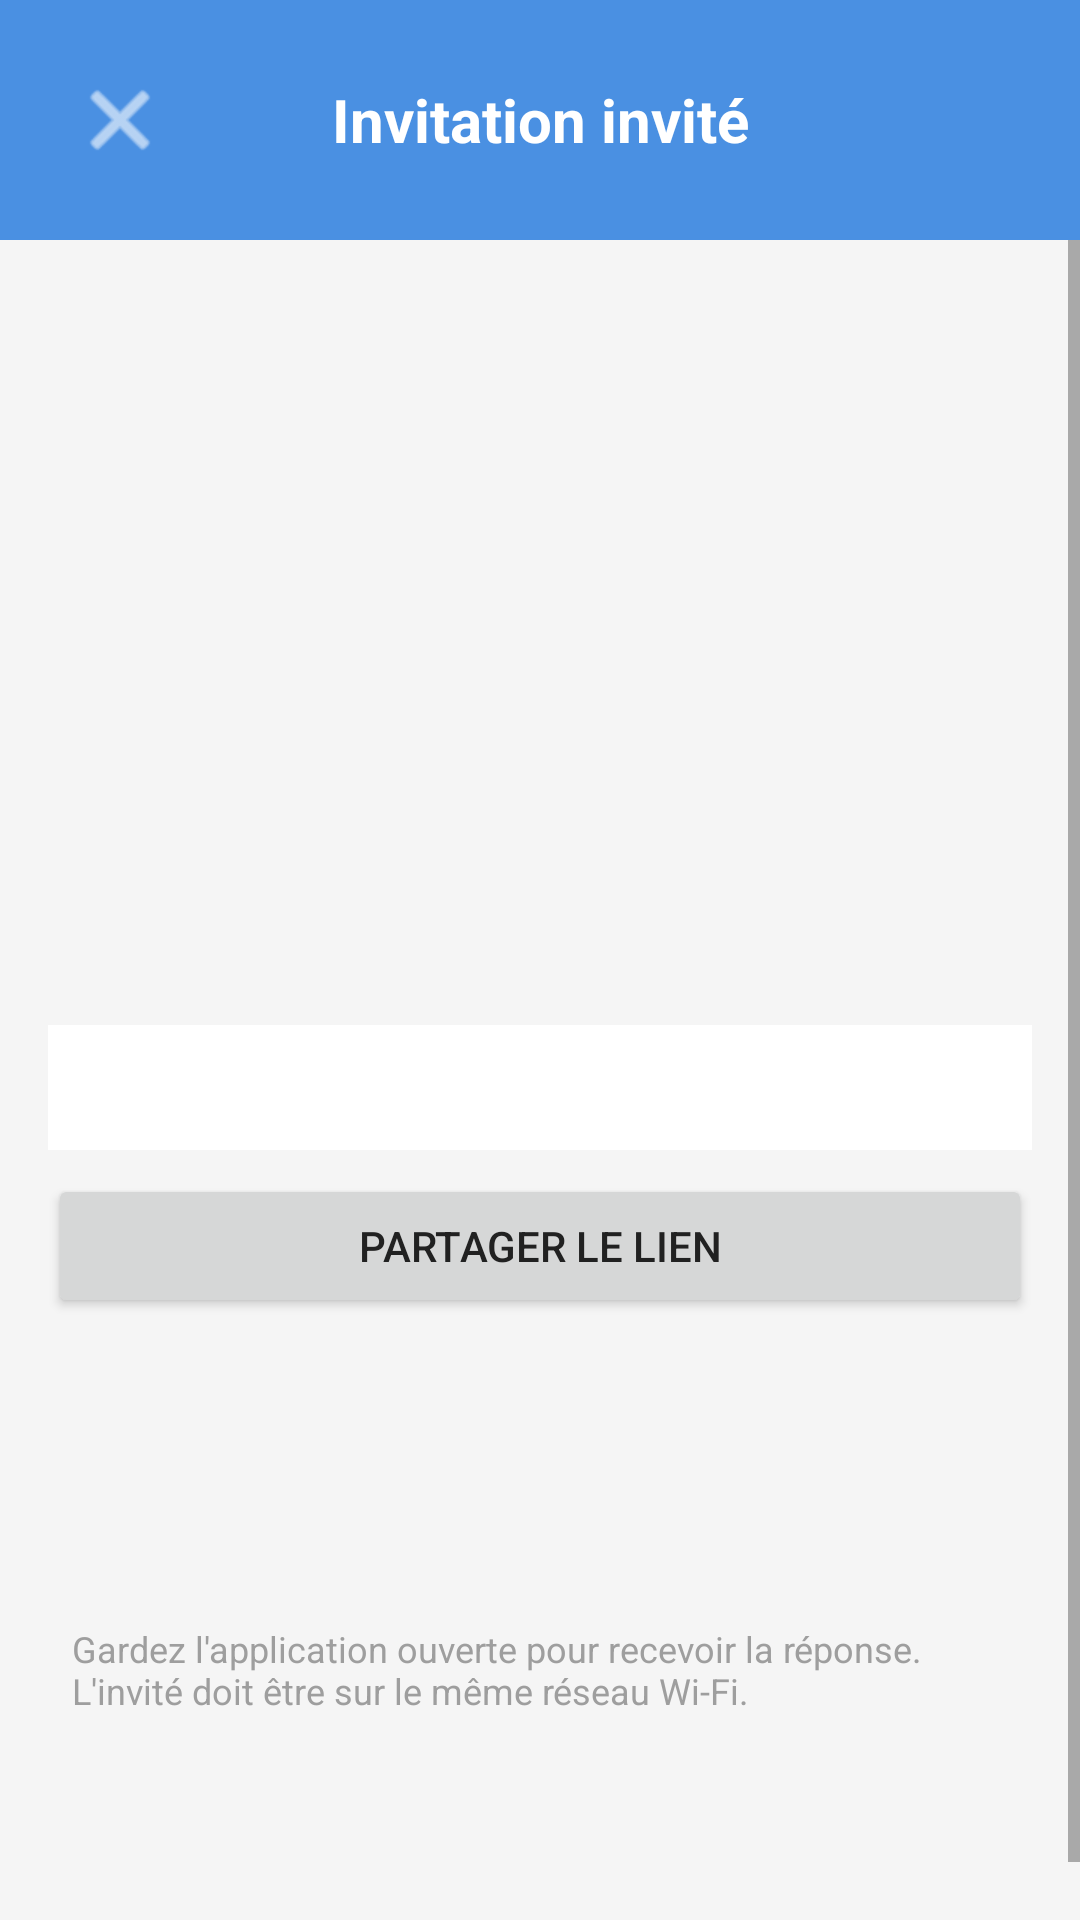

Screen size 1080px x 1920px. Icon name, then its box in pixels as {"left": x1, "top": y1, "right": x2, "bottom": y2}:
Retour: {"left": 90, "top": 90, "right": 150, "bottom": 150}
